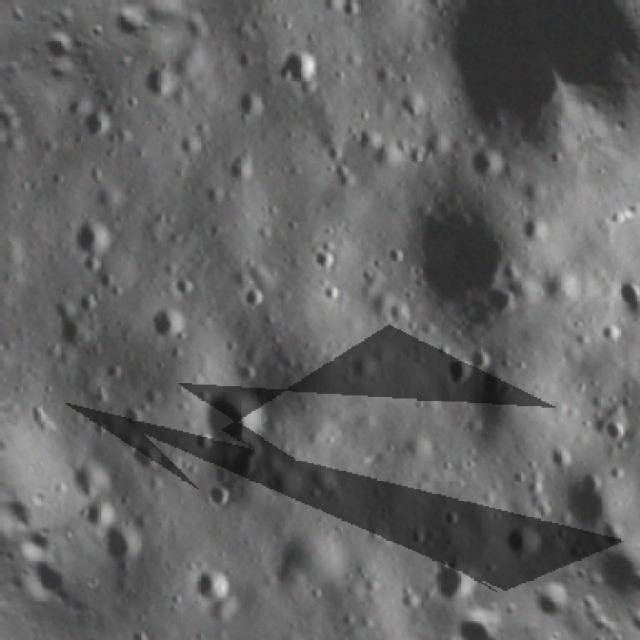crater: (389, 0, 576, 169), (387, 168, 551, 340), (180, 365, 277, 453), (549, 466, 626, 546), (417, 544, 494, 614), (86, 507, 156, 575), (213, 426, 282, 488), (489, 511, 554, 572), (56, 449, 121, 508), (270, 35, 332, 96), (127, 55, 184, 114), (71, 484, 129, 541), (462, 357, 520, 414), (182, 556, 240, 610), (460, 136, 515, 190), (214, 137, 268, 192), (137, 295, 192, 347), (64, 214, 114, 266), (81, 167, 133, 215), (230, 77, 278, 129), (434, 346, 480, 394), (512, 205, 560, 250), (299, 235, 346, 280), (76, 96, 121, 141), (379, 286, 423, 331), (385, 82, 430, 126), (340, 344, 386, 387), (173, 18, 219, 60), (607, 267, 640, 324), (126, 433, 168, 476), (164, 262, 205, 302), (195, 475, 234, 517), (232, 276, 272, 316), (458, 334, 498, 374), (359, 54, 399, 94), (596, 409, 635, 449), (390, 578, 427, 619), (593, 312, 630, 351), (112, 396, 150, 433), (310, 274, 348, 311), (326, 0, 374, 29), (378, 237, 414, 272), (196, 638, 238, 640), (257, 638, 288, 640)
